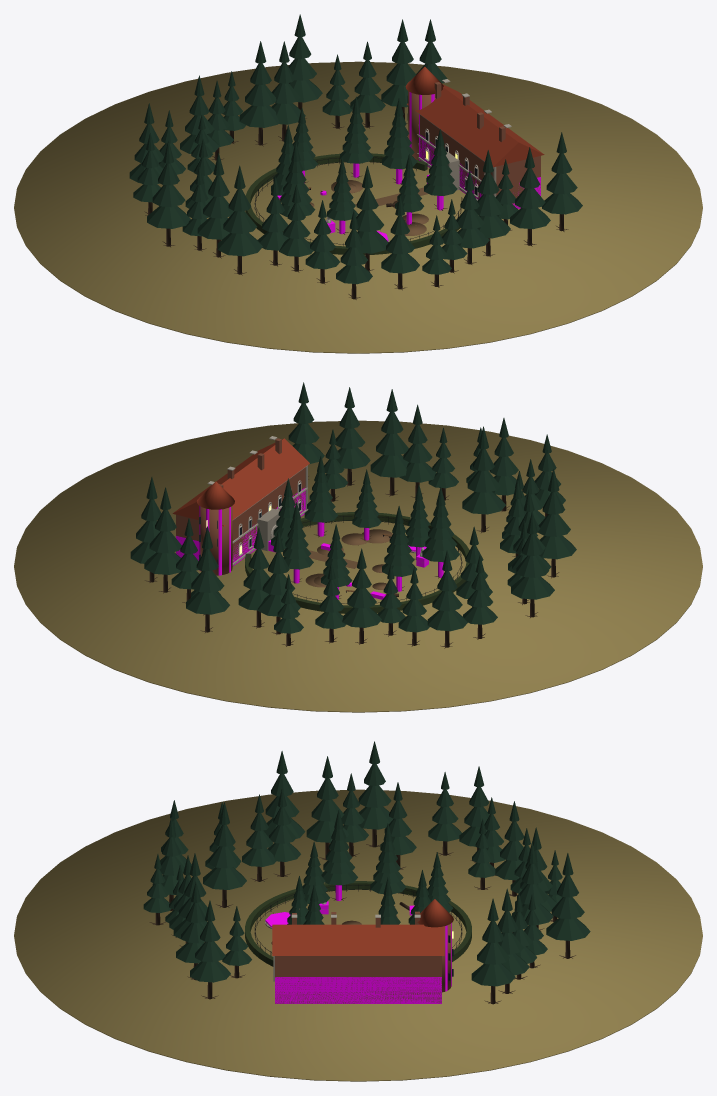
The model's file is orfanato.glb.
3 renders of one model, top to bottom at view 1: azimuth 30°, elevation 25°; view 2: azimuth 150°, elevation 25°; view 3: azimuth 270°, elevation 25°, orthographic.
Parts seen in each view (by area): view 1: GROUND_grass, static_foliage_pine, static_roof_red, OCC_manor_main, static_bark, static_hedge, OCC_pine7, OCC_pine4, OCC_pine5, OCC_pine2, OCC_pine0, OCC_pine3 (+5 smaller); view 2: GROUND_grass, static_foliage_pine, static_roof_red, OCC_manor_main, static_bark, static_hedge, OCC_pine4, OCC_tower, OCC_pine1, OCC_pine5, OCC_pine2, OCC_pine0 (+7 smaller); view 3: GROUND_grass, static_foliage_pine, static_roof_red, OCC_manor_main, COL_box_manor, static_hedge, static_bark, OCC_pine4, OCC_pine1, OCC_pine0, OCC_pine6, OCC_pine7 (+1 smaller).
Boxes of the visible parts, x1,y1,x2,y2 form: GROUND_grass: [14, 61, 702, 353]; static_foliage_pine: [129, 14, 582, 284]; static_roof_red: [405, 66, 544, 167]; OCC_manor_main: [420, 115, 540, 208]; static_bark: [144, 102, 568, 299]; static_hedge: [245, 153, 464, 255]; OCC_pine7: [382, 98, 417, 184]; OCC_pine4: [280, 142, 315, 216]; OCC_pine5: [424, 129, 457, 210]; OCC_pine2: [340, 96, 373, 178]; OCC_pine0: [327, 158, 358, 234]; OCC_pine3: [395, 153, 424, 224]; GROUND_grass: [14, 420, 702, 712]; static_foliage_pine: [130, 382, 576, 633]; static_roof_red: [172, 438, 309, 526]; OCC_manor_main: [176, 467, 305, 566]; static_bark: [145, 468, 559, 648]; static_hedge: [245, 512, 469, 613]; OCC_pine4: [422, 487, 459, 578]; OCC_tower: [200, 506, 232, 575]; OCC_pine1: [382, 506, 417, 590]; OCC_pine5: [304, 455, 337, 537]; OCC_pine2: [283, 502, 313, 583]; OCC_pine0: [406, 484, 429, 559]; GROUND_grass: [14, 789, 702, 1081]; static_foliage_pine: [143, 741, 590, 986]; static_roof_red: [272, 899, 453, 955]; OCC_manor_main: [275, 956, 441, 1003]; COL_box_manor: [275, 977, 441, 1003]; static_hedge: [245, 881, 471, 966]; static_bark: [149, 829, 575, 1004]; OCC_pine4: [321, 810, 357, 900]; OCC_pine1: [370, 823, 405, 906]; OCC_pine0: [302, 841, 330, 914]; OCC_pine6: [427, 852, 453, 912]; OCC_pine7: [378, 877, 400, 924].
Size of the model in its own units: 140 by 24.39 by 140.
